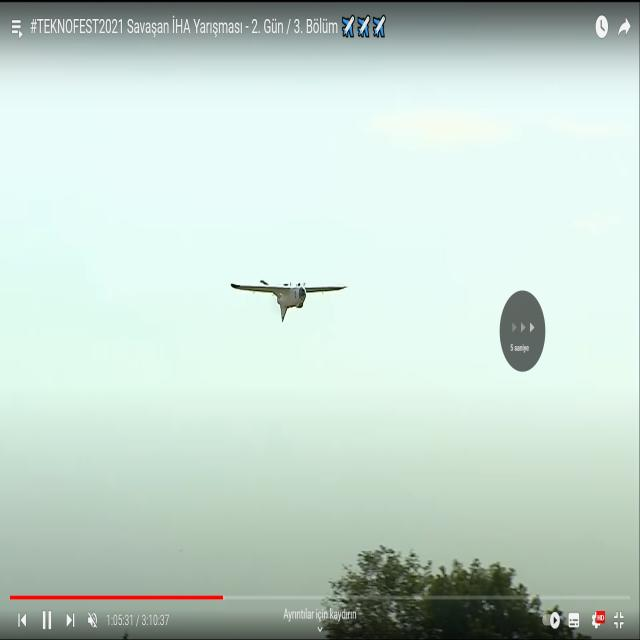iha: (262, 275, 315, 322)
